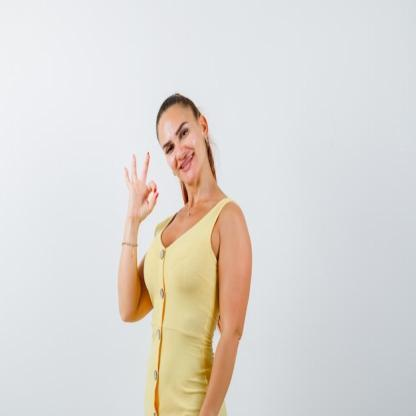ok: (122, 147, 161, 226)
